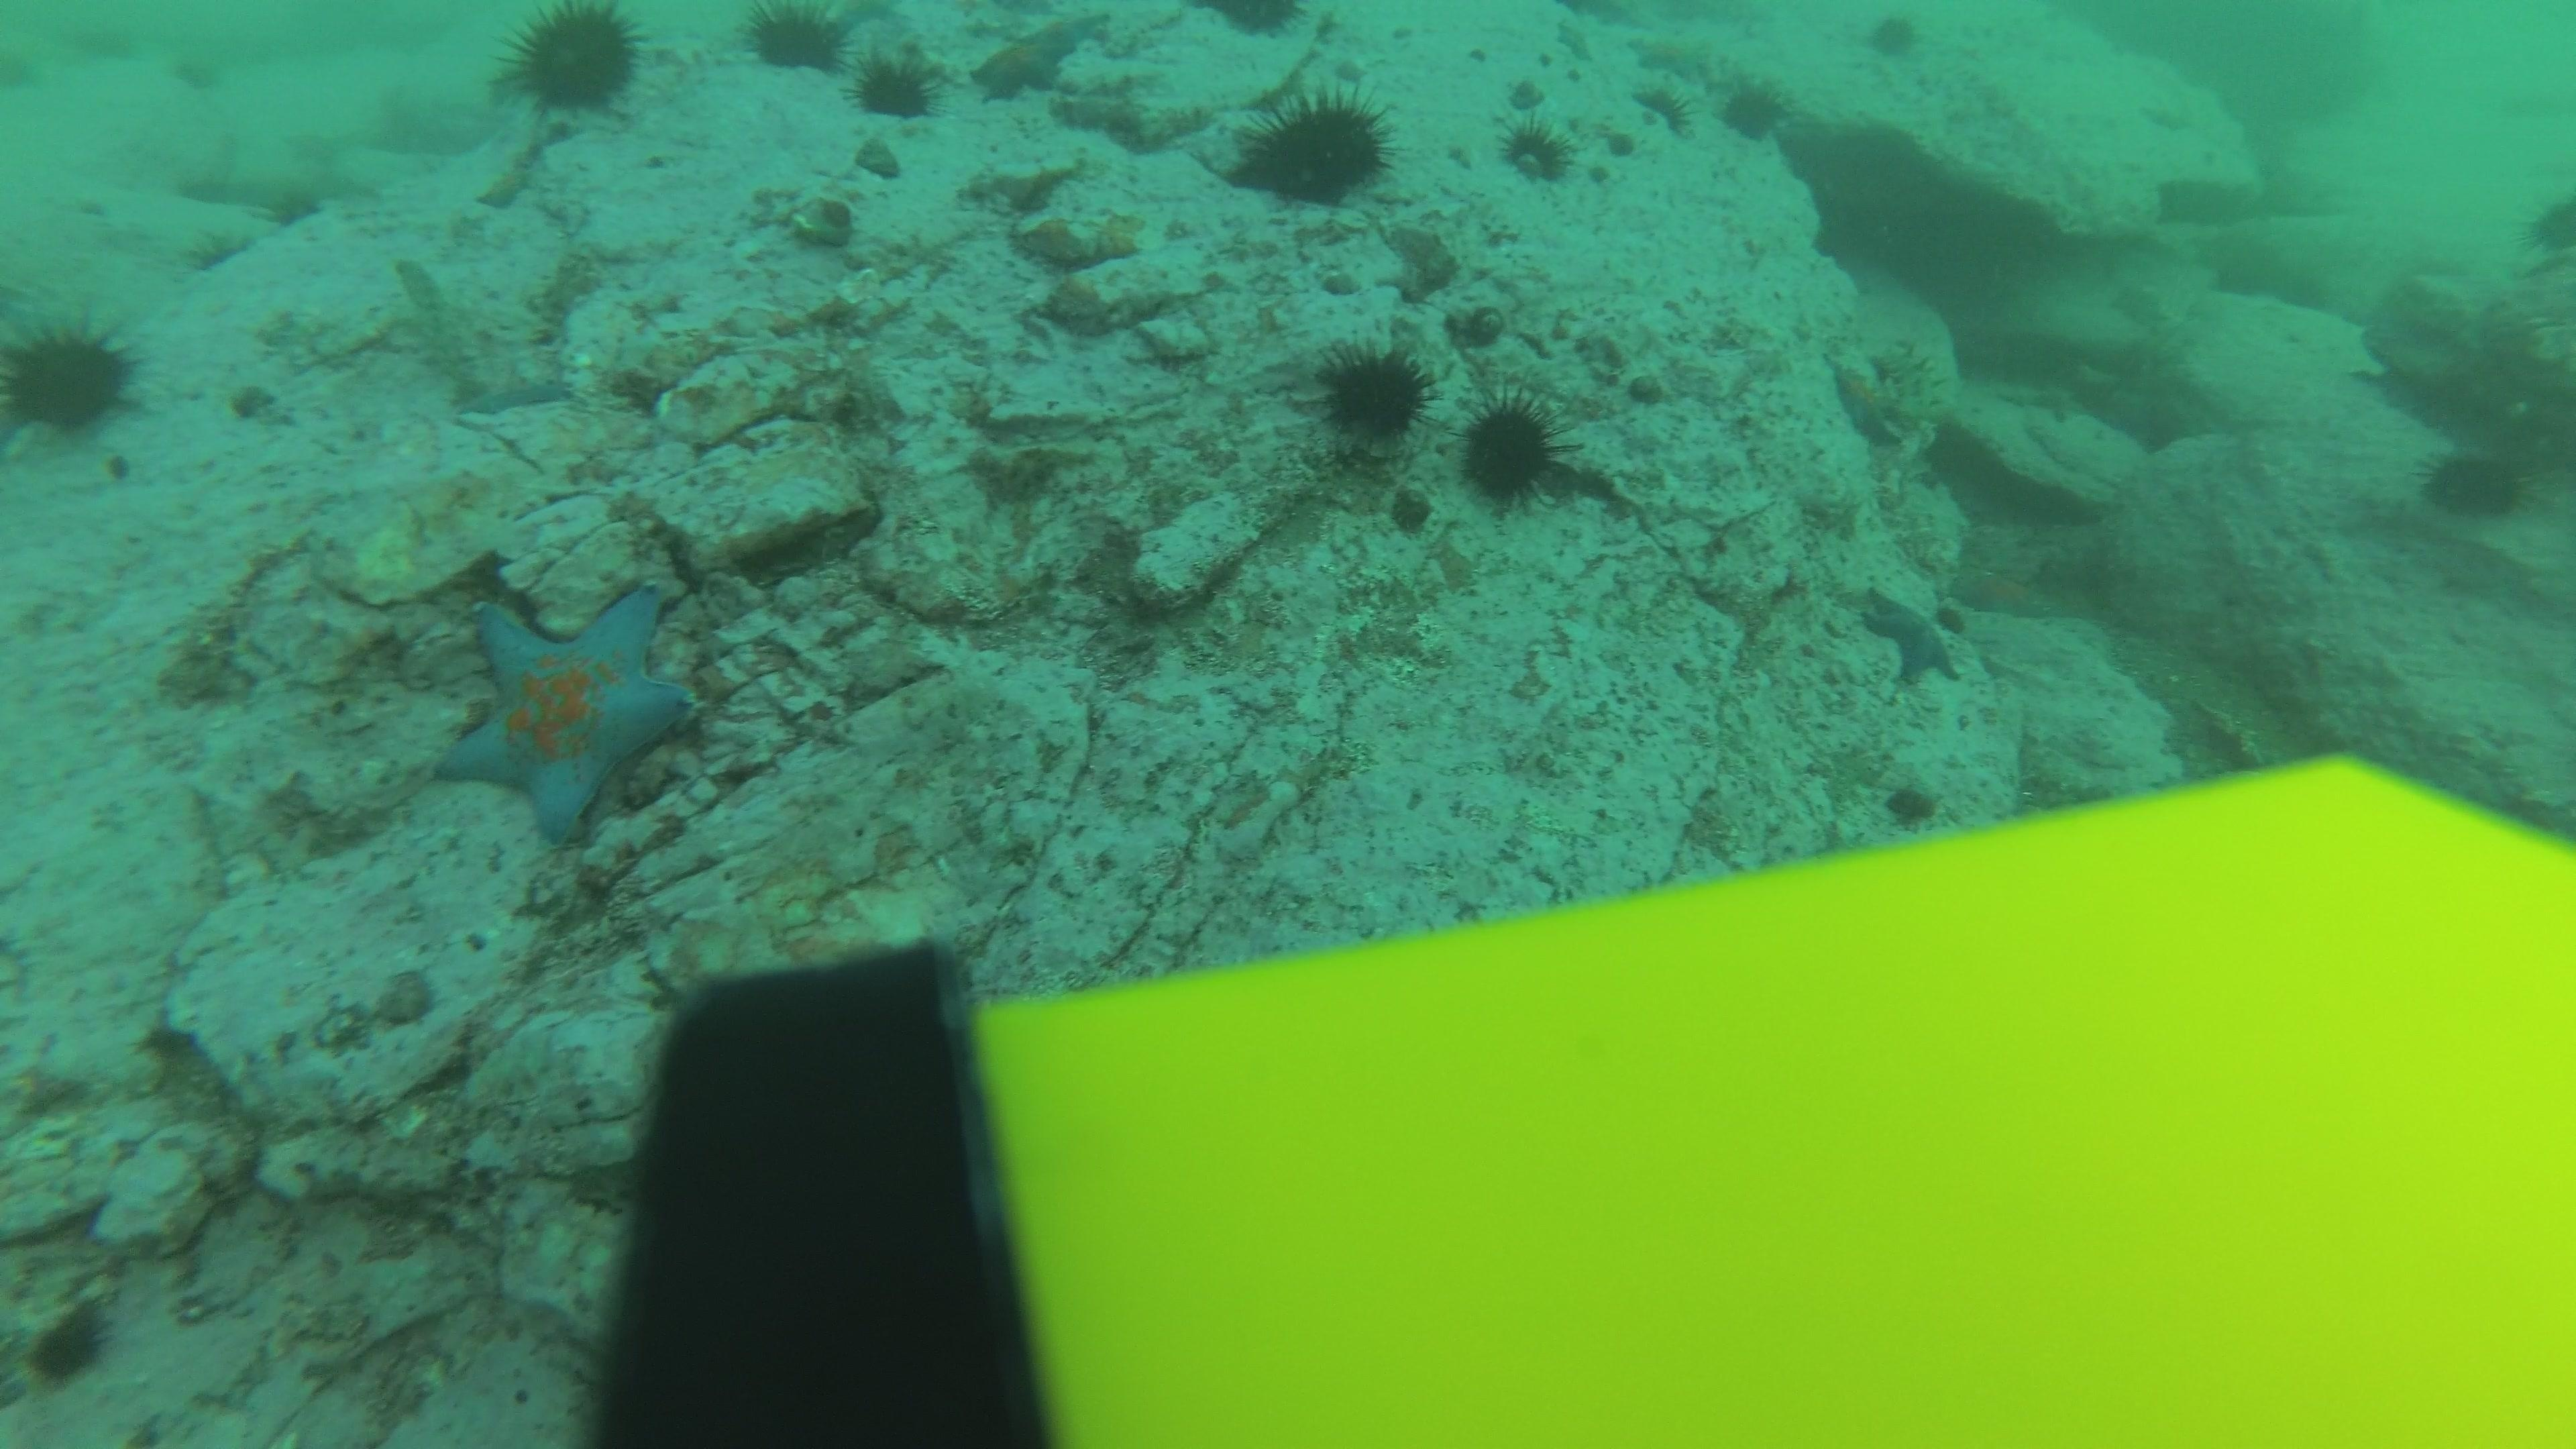echinus: (1228, 83, 1394, 211), (494, 4, 649, 122), (4, 313, 142, 444), (1454, 391, 1571, 511), (1311, 336, 1435, 446), (2420, 441, 2534, 525), (741, 4, 851, 80), (847, 48, 941, 126), (1854, 0, 1928, 73), (1714, 74, 1790, 145), (1499, 117, 1575, 188), (2502, 191, 2576, 260), (1201, 0, 1307, 42)
holothurian: (1875, 340, 1943, 441)
starfish: (432, 580, 697, 846), (966, 11, 1111, 103), (1856, 584, 1969, 690), (1826, 352, 1911, 451), (449, 361, 577, 421), (1946, 559, 2059, 625), (2098, 271, 2178, 352), (1629, 80, 1693, 136)
